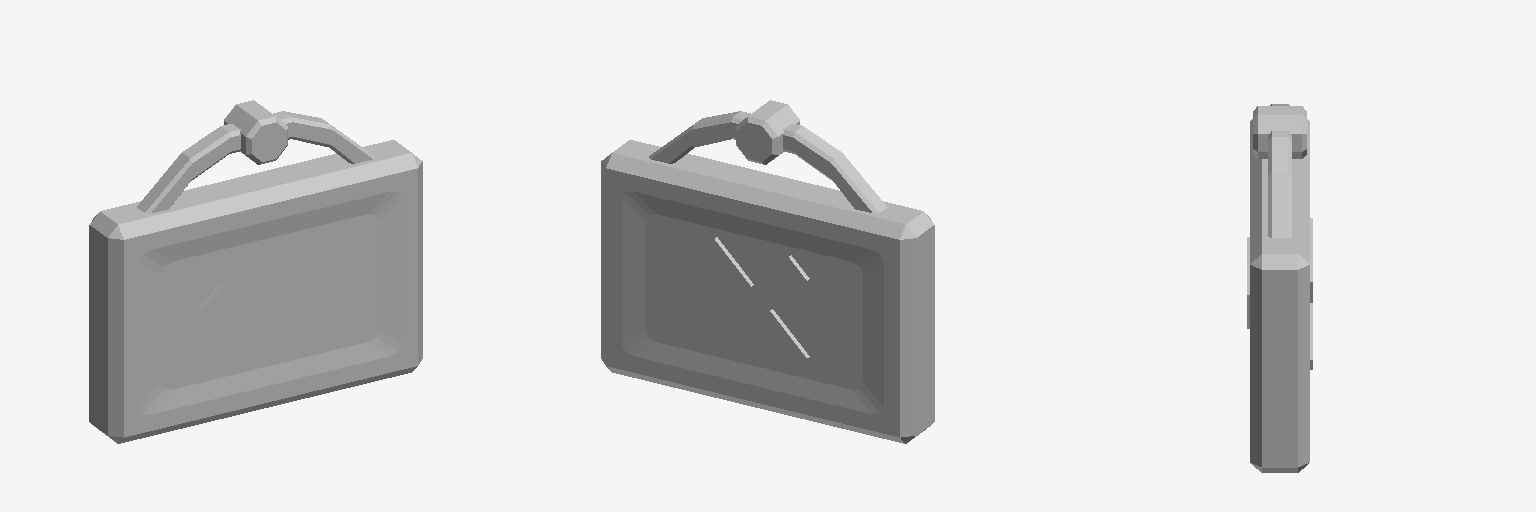
Rendered from open_close_sign.obj.
3 renders of one model, left to right at view 1: azimuth 30°, elevation 25°; view 2: azimuth 150°, elevation 25°; view 3: azimuth 270°, elevation 25°, orthographic.
Parts seen in each view (by area): view 1: open_close_sign; view 2: open_close_sign; view 3: open_close_sign.
Boxes of the visible parts, x1,y1,x2,y2 form: open_close_sign: [89, 100, 422, 443]; open_close_sign: [601, 100, 934, 443]; open_close_sign: [1247, 104, 1312, 472].
Size of the model in its own units: 0.6 by 0.5306 by 0.11.